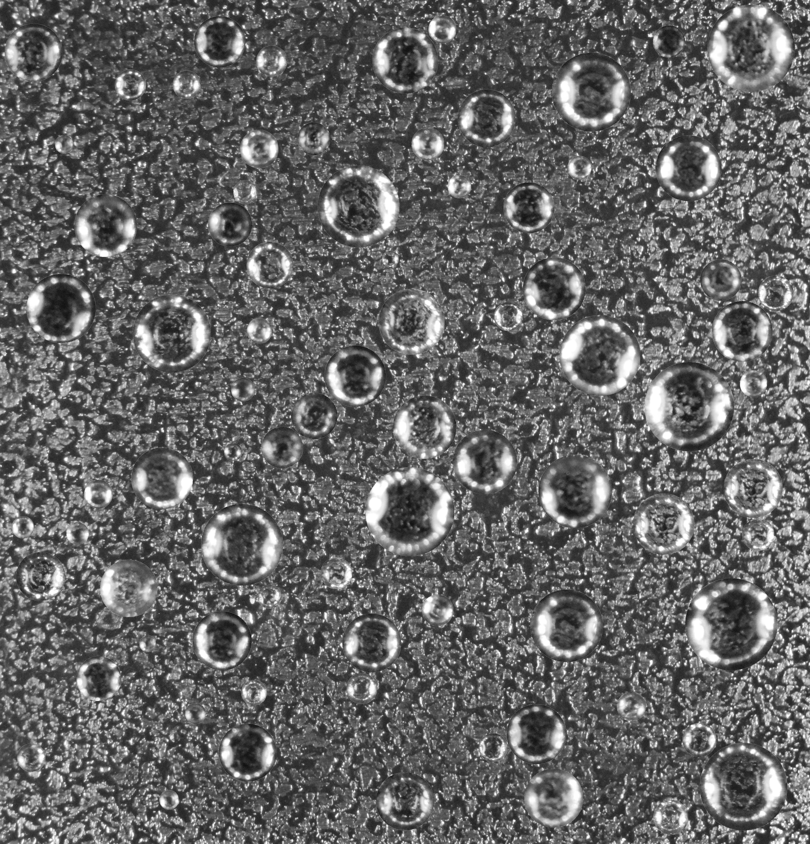Bubble: (685, 578, 777, 670), (644, 362, 734, 451), (365, 467, 454, 556), (699, 743, 787, 830), (707, 4, 794, 91), (317, 165, 399, 247), (201, 503, 282, 585), (559, 315, 640, 395), (552, 52, 630, 131), (132, 294, 210, 372), (538, 454, 611, 528), (530, 589, 602, 662), (26, 273, 95, 342), (372, 27, 438, 93), (655, 135, 721, 201), (378, 288, 444, 354), (452, 429, 517, 494), (522, 257, 585, 320), (393, 395, 456, 458), (74, 194, 136, 256), (131, 447, 192, 509), (633, 493, 694, 554), (324, 345, 385, 406), (506, 704, 566, 764), (712, 301, 772, 361), (192, 611, 251, 670), (342, 613, 401, 672), (524, 768, 583, 827), (723, 459, 782, 517), (218, 723, 276, 781), (376, 772, 434, 830), (457, 89, 515, 147), (4, 23, 62, 81), (100, 559, 157, 617), (194, 16, 245, 67), (503, 182, 554, 233), (16, 552, 64, 600), (246, 241, 293, 288), (291, 392, 337, 439), (76, 656, 121, 701), (208, 202, 252, 246), (261, 426, 302, 468), (700, 259, 741, 300), (240, 129, 278, 168), (758, 275, 793, 310), (653, 800, 688, 834), (682, 723, 716, 756), (297, 122, 330, 155), (411, 127, 444, 160), (320, 557, 352, 589), (742, 518, 774, 550), (653, 25, 685, 57), (422, 594, 453, 625), (114, 69, 145, 100), (346, 673, 377, 704), (256, 45, 287, 76), (617, 692, 646, 721), (84, 479, 112, 508), (478, 733, 507, 761), (428, 15, 456, 43), (17, 743, 45, 771), (494, 302, 522, 330), (172, 70, 200, 98), (740, 370, 767, 397), (246, 318, 272, 343), (241, 680, 266, 705), (567, 155, 591, 179), (447, 174, 471, 198), (231, 377, 254, 401), (257, 585, 281, 608), (233, 180, 257, 203), (11, 516, 33, 538), (66, 522, 88, 544), (185, 703, 205, 723), (159, 790, 178, 809), (54, 135, 73, 153), (224, 443, 241, 460), (139, 635, 155, 652), (382, 250, 398, 267), (7, 232, 19, 244)
